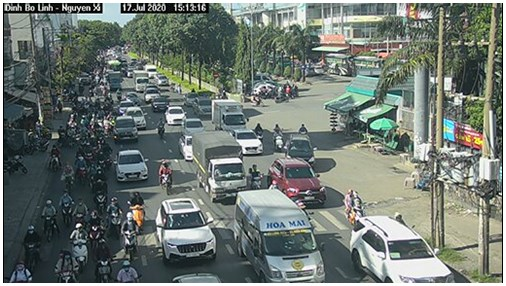xe_hoi: (349, 218, 457, 283), (151, 198, 220, 268), (114, 149, 150, 182), (233, 128, 264, 157), (112, 114, 140, 144), (164, 105, 187, 127)
xe_khach: (233, 189, 327, 283)
xe_may: (93, 238, 117, 283), (68, 222, 90, 270), (52, 249, 79, 283), (121, 209, 139, 258), (343, 187, 364, 229), (39, 196, 58, 240), (129, 186, 147, 232), (24, 224, 43, 267), (158, 159, 177, 198), (116, 257, 143, 282), (8, 258, 33, 283), (92, 176, 108, 212), (60, 188, 75, 226), (108, 193, 121, 234), (88, 206, 102, 241), (59, 161, 75, 190), (74, 198, 88, 231), (249, 161, 263, 190), (270, 125, 286, 150), (77, 153, 87, 185), (48, 142, 59, 170), (155, 117, 166, 140)
xe_tai: (192, 130, 249, 202), (207, 97, 250, 134)
